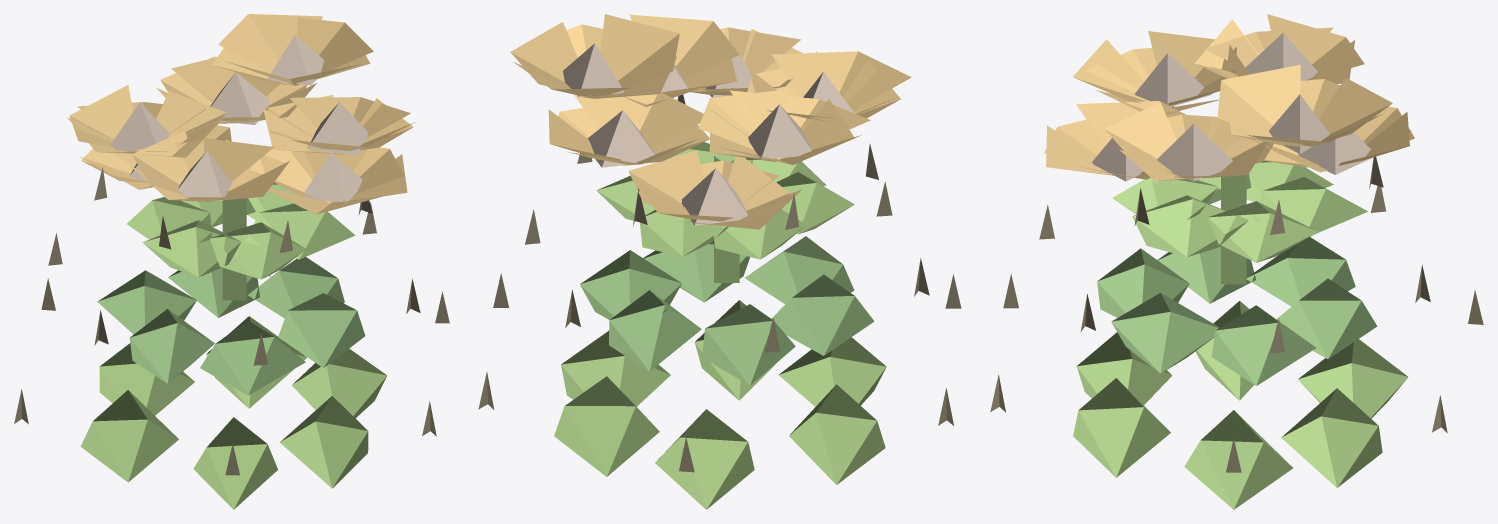
Rendered from cao.shamo@flowering__bloom.glb.
The picture shows the model from 3 angles, left to right: view 1: azimuth 30°, elevation 25°; view 2: azimuth 150°, elevation 25°; view 3: azimuth 270°, elevation 25°; orthographic projection. The views are drawn at different scales.
Parts seen in each view (by area): view 1: cao.shamo@flowering__bloom; view 2: cao.shamo@flowering__bloom; view 3: cao.shamo@flowering__bloom.
Part boxes in pixels (x1=…): cao.shamo@flowering__bloom: x1=14, y1=14, x2=449, y2=509; cao.shamo@flowering__bloom: x1=478, y1=14, x2=961, y2=509; cao.shamo@flowering__bloom: x1=990, y1=14, x2=1483, y2=509.
Bounding box in the file's own units: 1.8 × 1.52 × 1.66.
